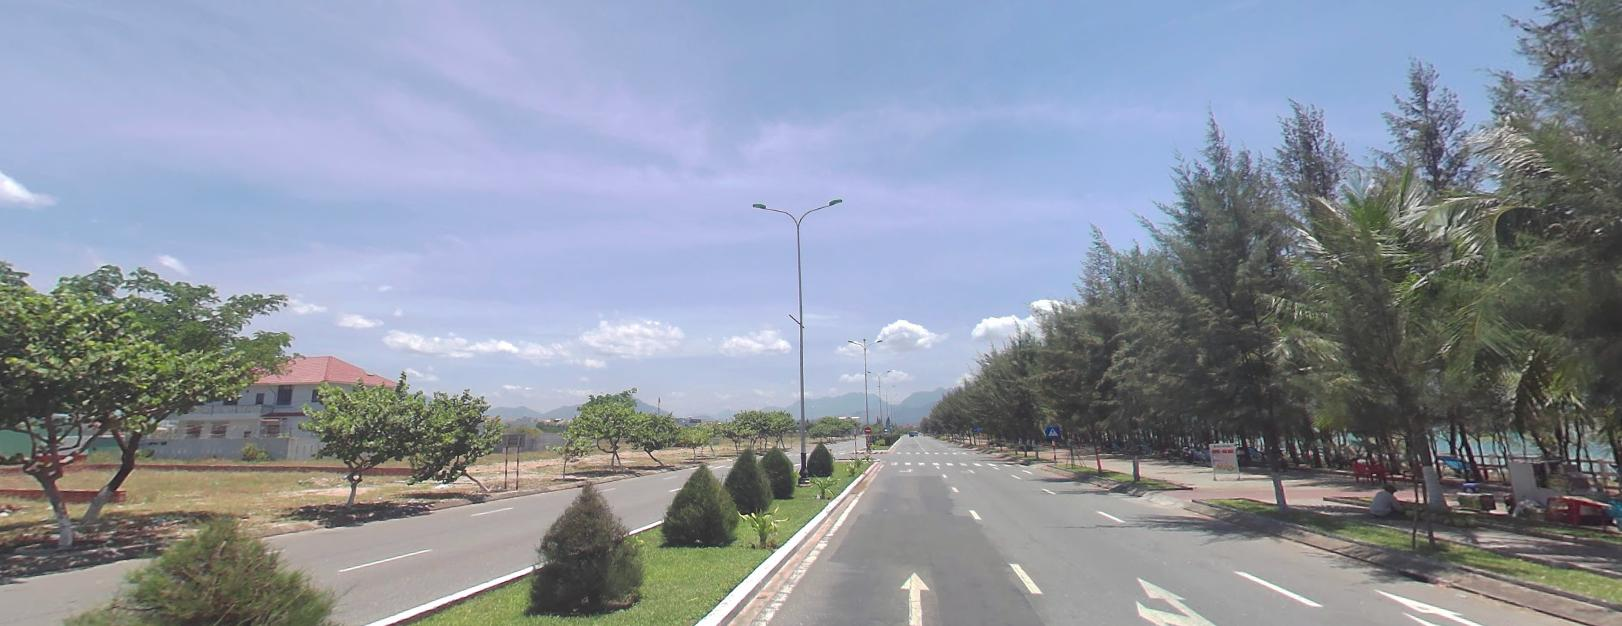Cam nguoc chieu: (864, 425, 872, 431)
